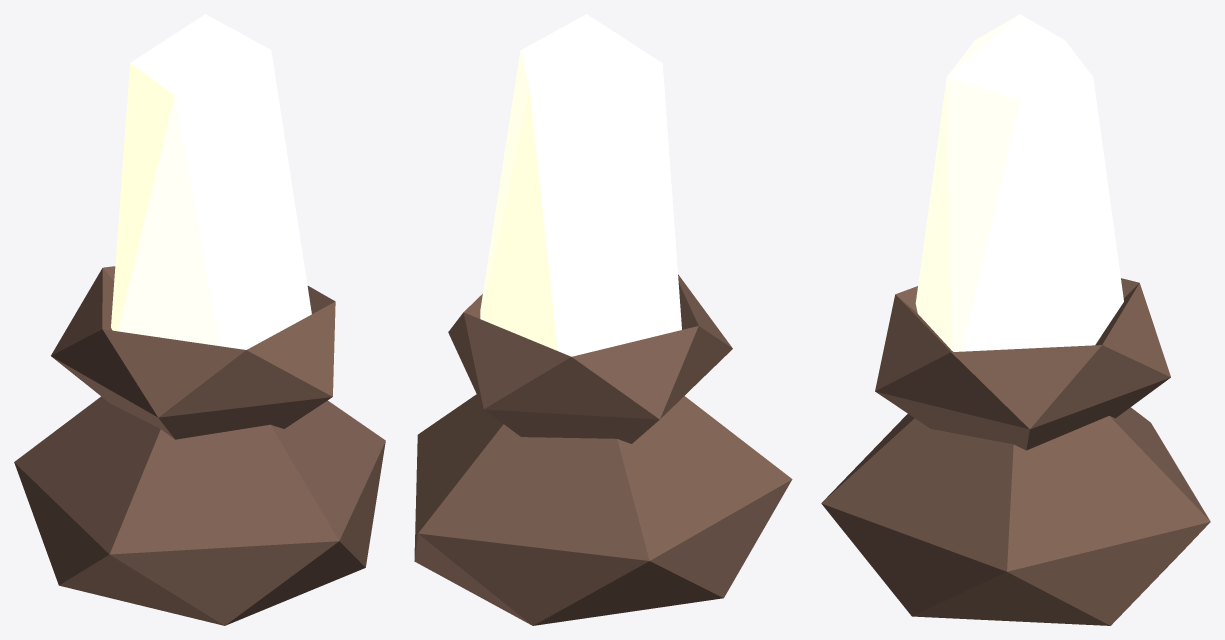
File: Light_Stone_Little.fbx
3 views of the same model, side by side, from view 1: azimuth 30°, elevation 25°; view 2: azimuth 150°, elevation 25°; view 3: azimuth 270°, elevation 25° (orthographic).
Parts seen in each view (by area): view 1: Икосфера.002; view 2: Икосфера.002; view 3: Икосфера.002.
Part boxes in pixels (x1,y1,x2,y2): Икосфера.002: (14,14,385,625); Икосфера.002: (414,14,792,625); Икосфера.002: (821,14,1210,625).
Bounding box in the file's own units: 12.43 × 19.83 × 12.74.
